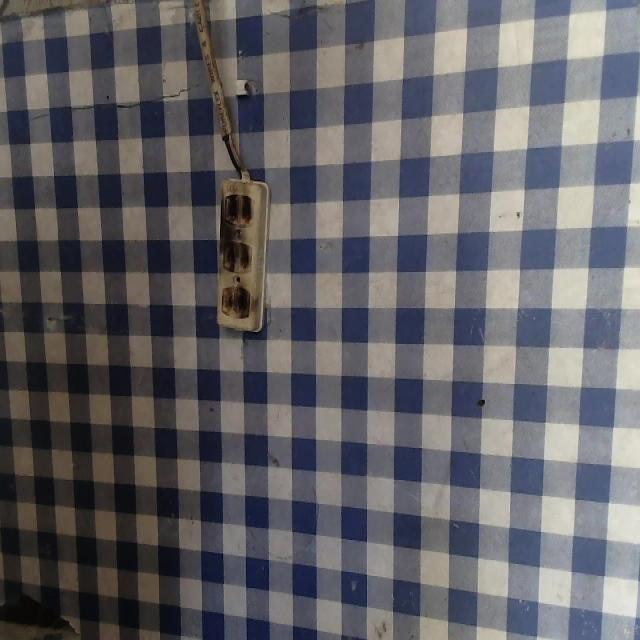-: (213, 235, 255, 277), (216, 188, 257, 227), (218, 284, 251, 321)
